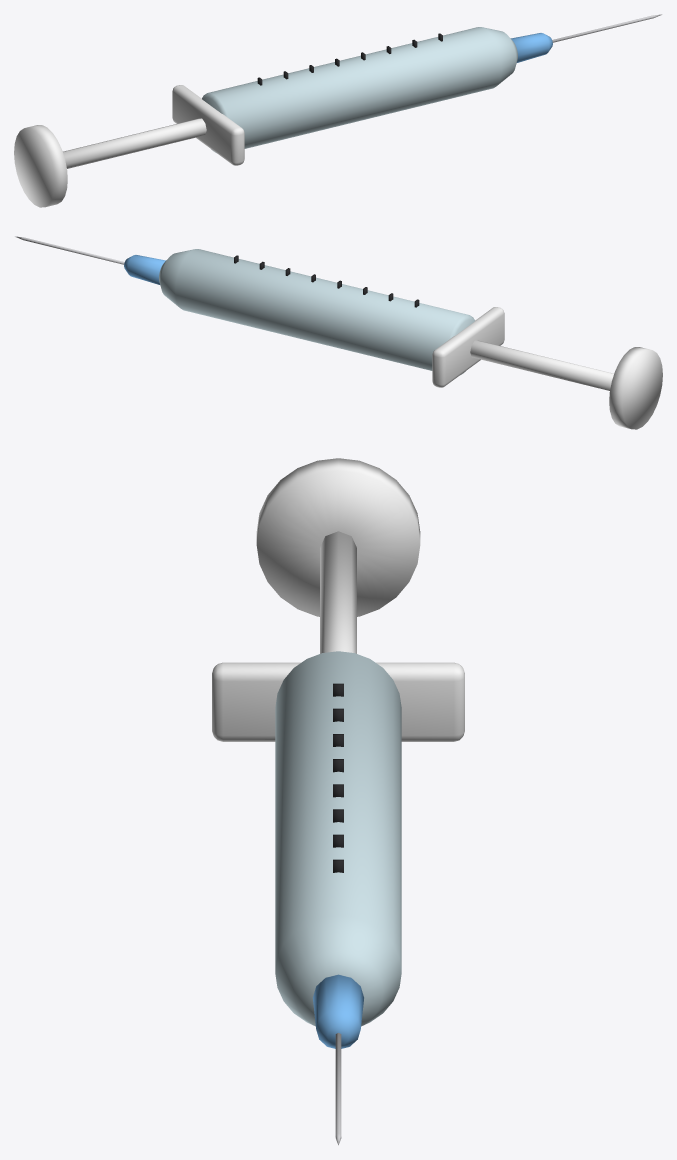
Rendered from SM_Iskald.glb.
3 views of the same model, one above another, from view 1: azimuth 30°, elevation 25°; view 2: azimuth 150°, elevation 25°; view 3: azimuth 270°, elevation 25° (orthographic). The views are drawn at different scales.
Visible parts, largest first — view 1: SM_Iskald; view 2: SM_Iskald; view 3: SM_Iskald.
Boxes of the visible parts, bbox=[...] form: SM_Iskald: bbox=[14, 14, 661, 207]; SM_Iskald: bbox=[15, 236, 662, 429]; SM_Iskald: bbox=[212, 458, 464, 1145].
Size of the model in its own units: 0.195 by 0.022 by 0.034.
